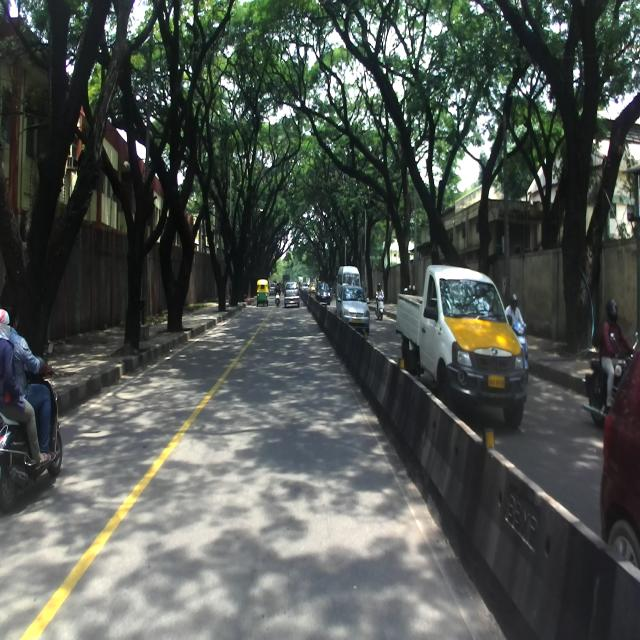motorcycle ahead at: (0, 341, 65, 515)
tree ahead at: (104, 154, 167, 346)
truck ahead at: (394, 245, 530, 420)
